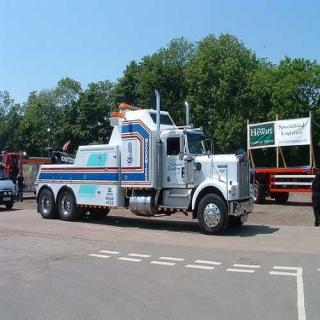Towing_truck: (34, 88, 255, 235)
